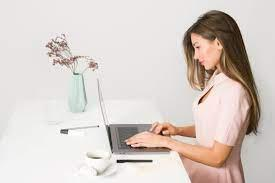Good Sitting Posture: (124, 11, 274, 175)
